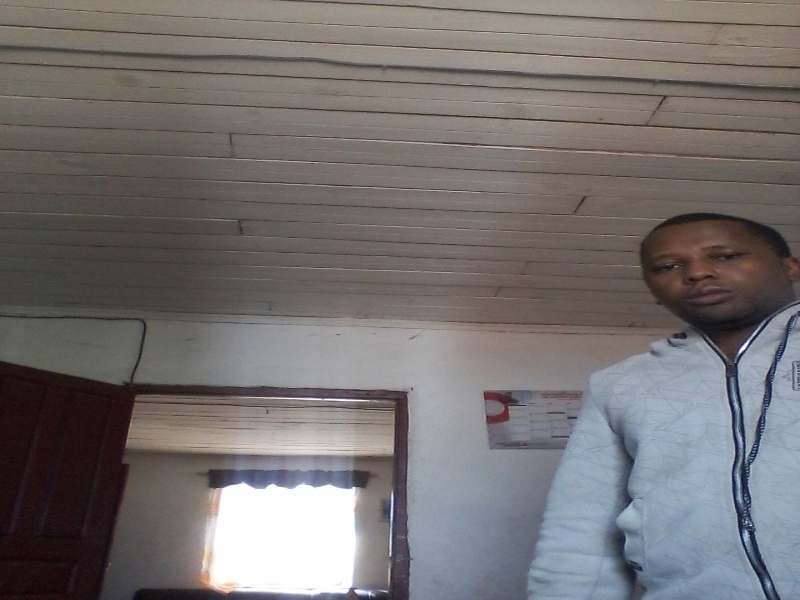TsisyArotava: (636, 199, 786, 341)
